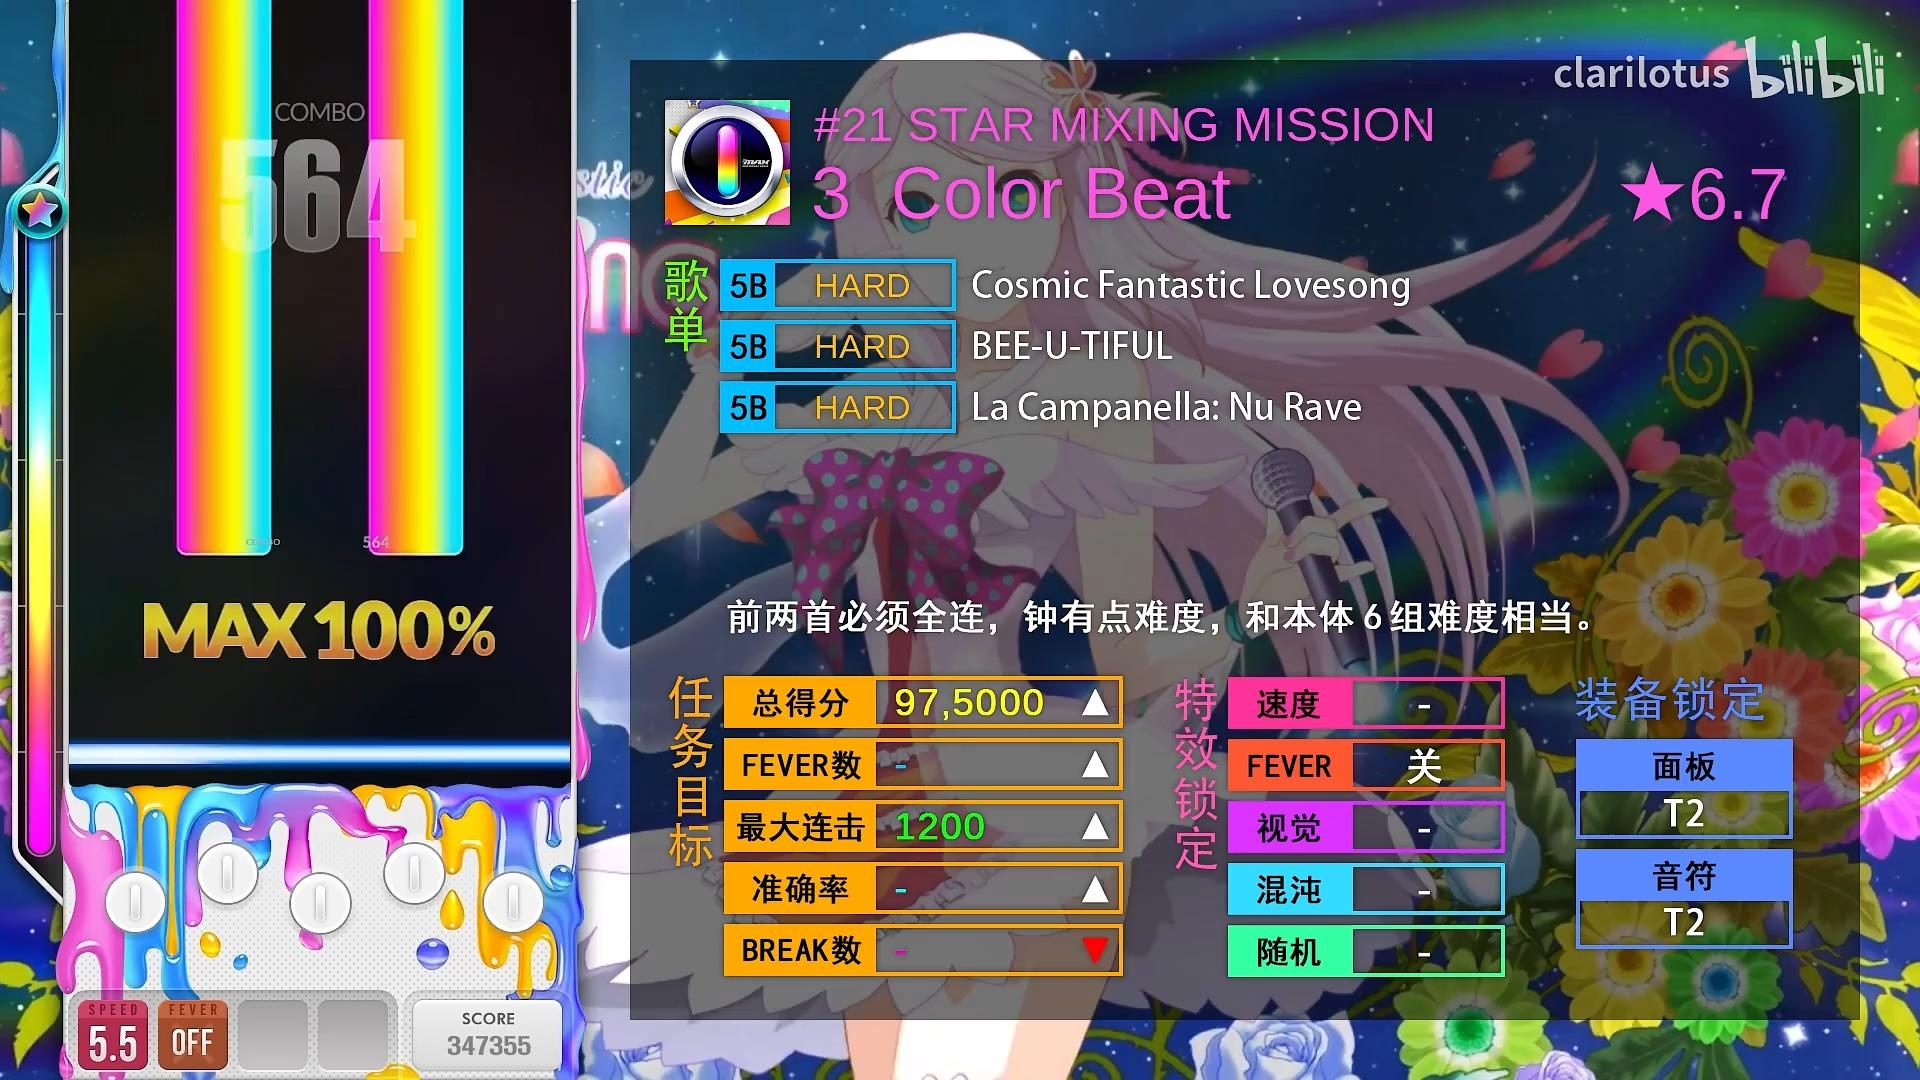hold-start: (177, 535, 273, 555), (369, 535, 463, 555)
